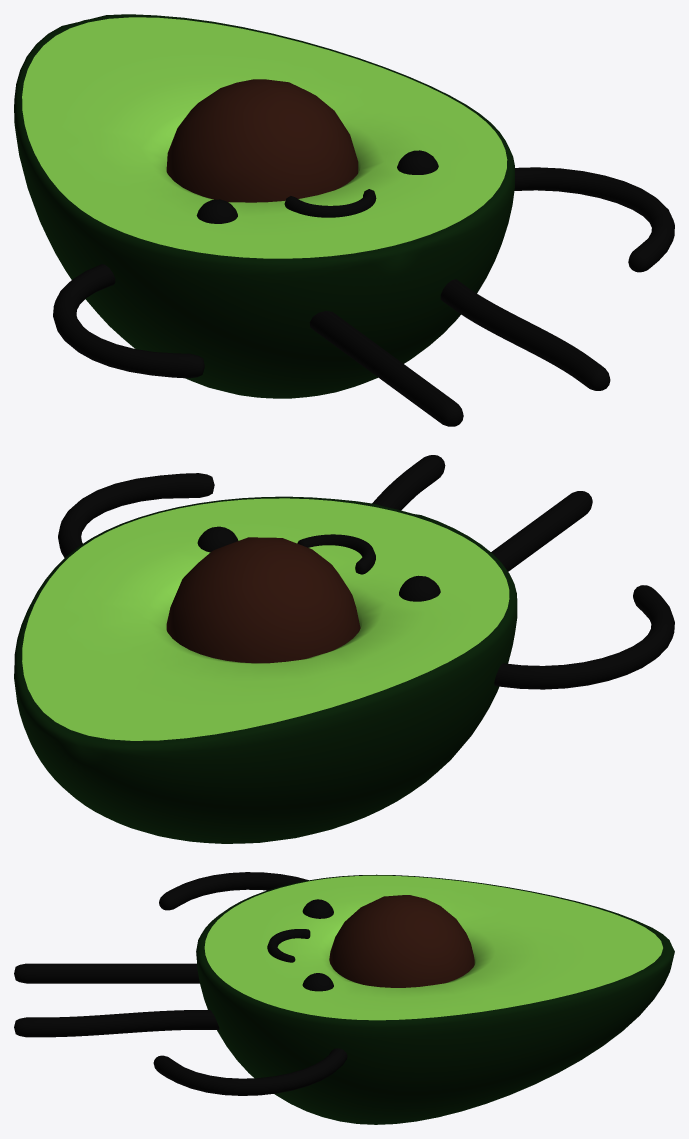
The model's file is avocado.obj.
3 renders of one model, top to bottom at view 1: azimuth 30°, elevation 25°; view 2: azimuth 150°, elevation 25°; view 3: azimuth 270°, elevation 25°, orthographic. The views are drawn at different scales.
Parts seen in each view (by area): view 1: avocado; view 2: avocado; view 3: avocado.
Boxes of the visible parts, box(x1,y1,x2,y2) form: avocado: box(14, 14, 674, 426); avocado: box(14, 455, 674, 843); avocado: box(14, 872, 674, 1124).
Size of the model in its own units: 2.82 by 1.27 by 3.68.
